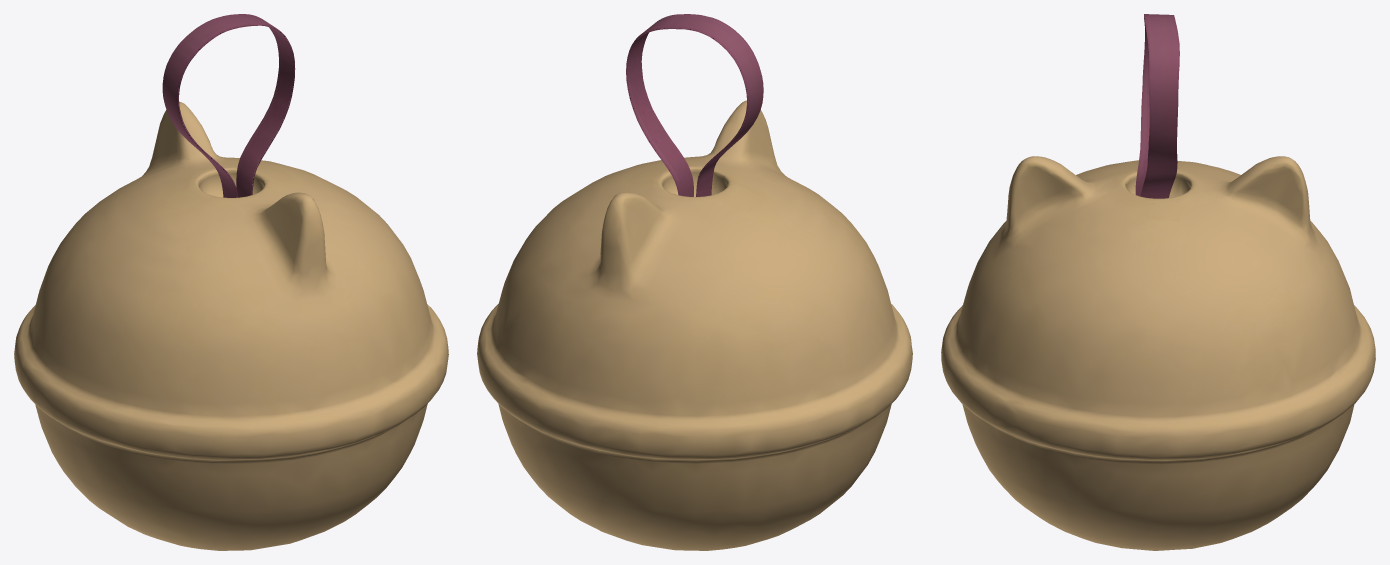
File: respect-bell.glb
3 renders of one model, left to right at view 1: azimuth 30°, elevation 25°; view 2: azimuth 150°, elevation 25°; view 3: azimuth 270°, elevation 25°, orthographic.
Visible parts, largest first — view 1: tripo_node_03091285-0324-47c6-889a-ba8c4436a088; view 2: tripo_node_03091285-0324-47c6-889a-ba8c4436a088; view 3: tripo_node_03091285-0324-47c6-889a-ba8c4436a088.
Part boxes in pixels (box(x1,y1,x2,y2)): tripo_node_03091285-0324-47c6-889a-ba8c4436a088: box(14, 14, 448, 550); tripo_node_03091285-0324-47c6-889a-ba8c4436a088: box(477, 14, 912, 550); tripo_node_03091285-0324-47c6-889a-ba8c4436a088: box(941, 14, 1375, 550).
Size of the model in its own units: 0.7759 by 0.9995 by 0.7759.
1 material, 1 textured.
